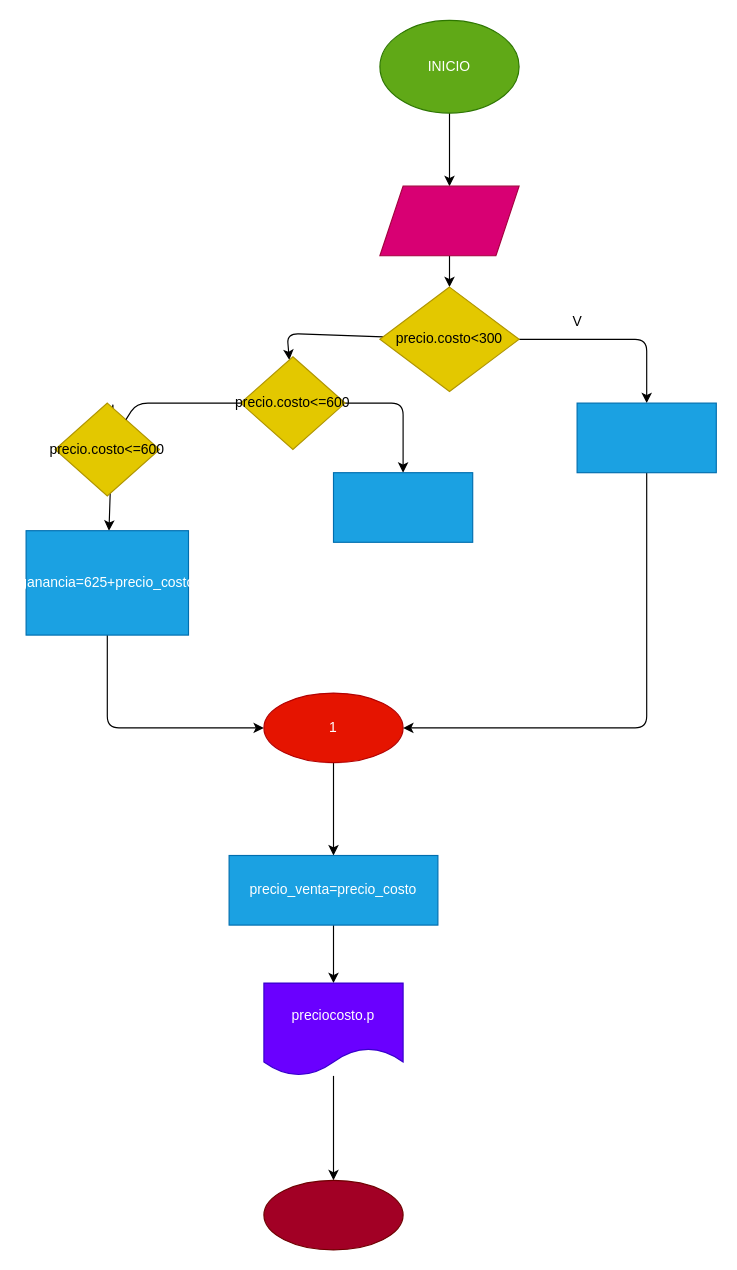
This 737x1270 diagram has some shape labels left out. The shapes that lost their labels are listed below. From the top down, each one's centre as x and y in pixels, then its label:
At pixel 449 220: "precio_costo".
At pixel 646 437: "ganancia = 0.5 + precio_costo".
At pixel 402 507: "ganancia = 500".
At pixel 333 1214: "FIN".
